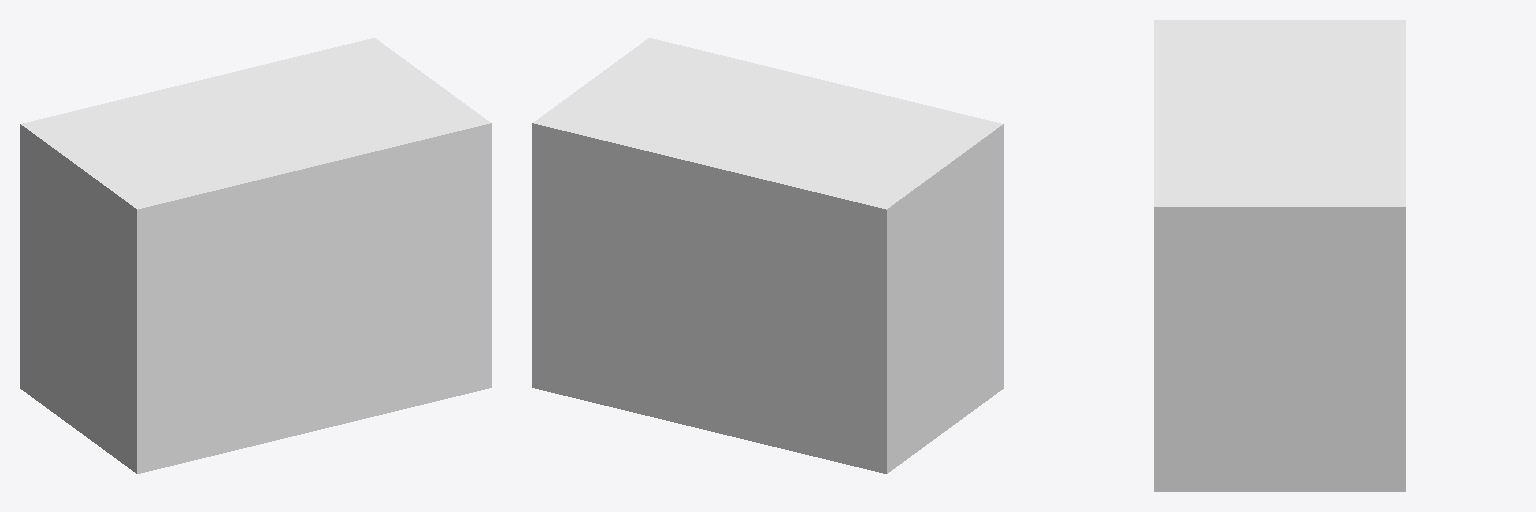
The robot description file, URDF, robot "obstacle1.obj":
<robot name="obstacle1.obj">
	<link name="_name">
		<visual>
			<origin xyz="0.0 0.0 -25.0" rpy="0 0 0" />
			<geometry>
				<mesh filename="obstacle1.obj" scale="1.0 1.0 1.0" />
			</geometry>
			<material name="texture">
				<color rgba="1.0 1.0 1.0 1.0" />
			</material>
		</visual>
		<collision>
			<geometry>
				<mesh filename="obstacle1_vhacd.obj" scale="1.0 1.0 1.0" />
			</geometry>
		<origin xyz="0.0 0.0 -25.0" rpy="0 0 0" /></collision>
		<inertial>
			<mass value="1.0" />
			<inertia ixx="1.0" ixy="0.0" ixz="0.0" iyy="1.0" iyz="0.0" izz="1.0" />
		</inertial>
	</link>
</robot>

--- What the picture shows (computed from the rendered views, not written in the file) ---
The picture shows the robot from 3 angles, left to right: view 1: azimuth 30°, elevation 25°; view 2: azimuth 150°, elevation 25°; view 3: azimuth 270°, elevation 25°; orthographic projection.
Model obstacle1.obj with 1 links and 0 joints (none), rooted at _name, posed all joints at 0.
Visible links, largest first — view 1: _name; view 2: _name; view 3: _name.
Boxes of the visible links, bbox=[...] form: _name: bbox=[20, 38, 491, 473]; _name: bbox=[532, 38, 1003, 473]; _name: bbox=[1154, 20, 1405, 491].
Size in the robot's own frame: 70 by 40 by 50 metres.
1 mesh visuals loaded from 1 distinct referenced files (1 OBJ).